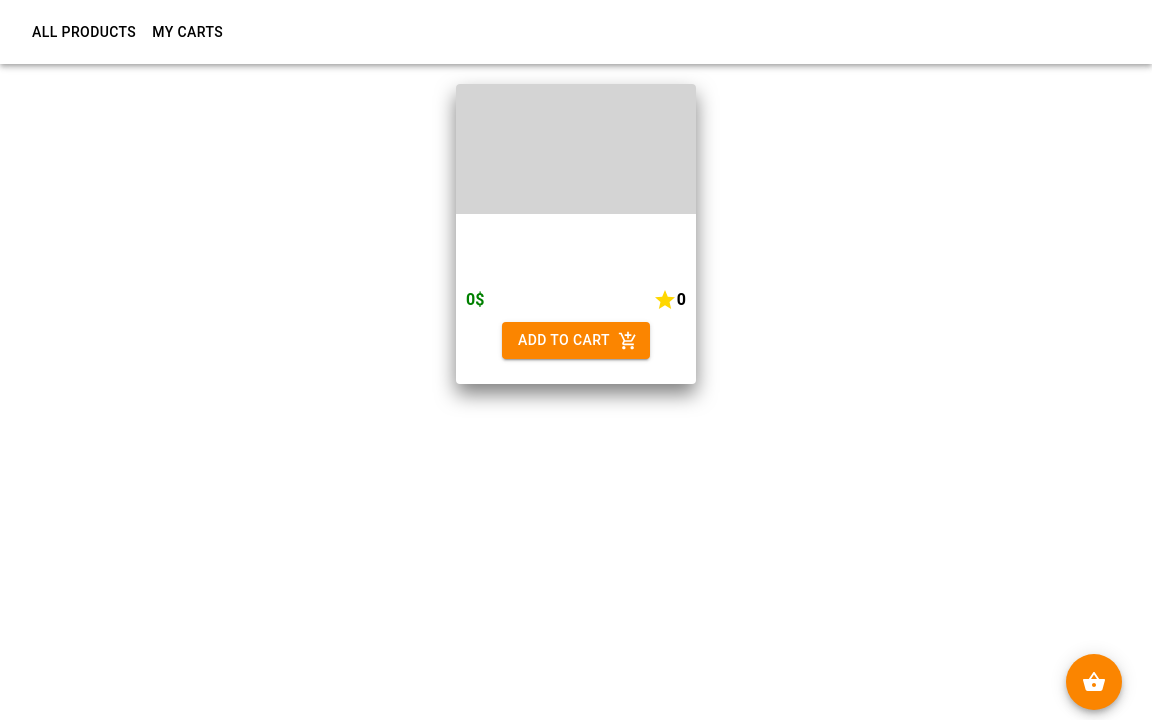
Scenario: `ALL PRODUCTS` PAGE TEST › Check if there is an item in the shopping cart
Step 1. Click the button with test id "addToCartButton" → (576, 341), box [502,322,650,359]
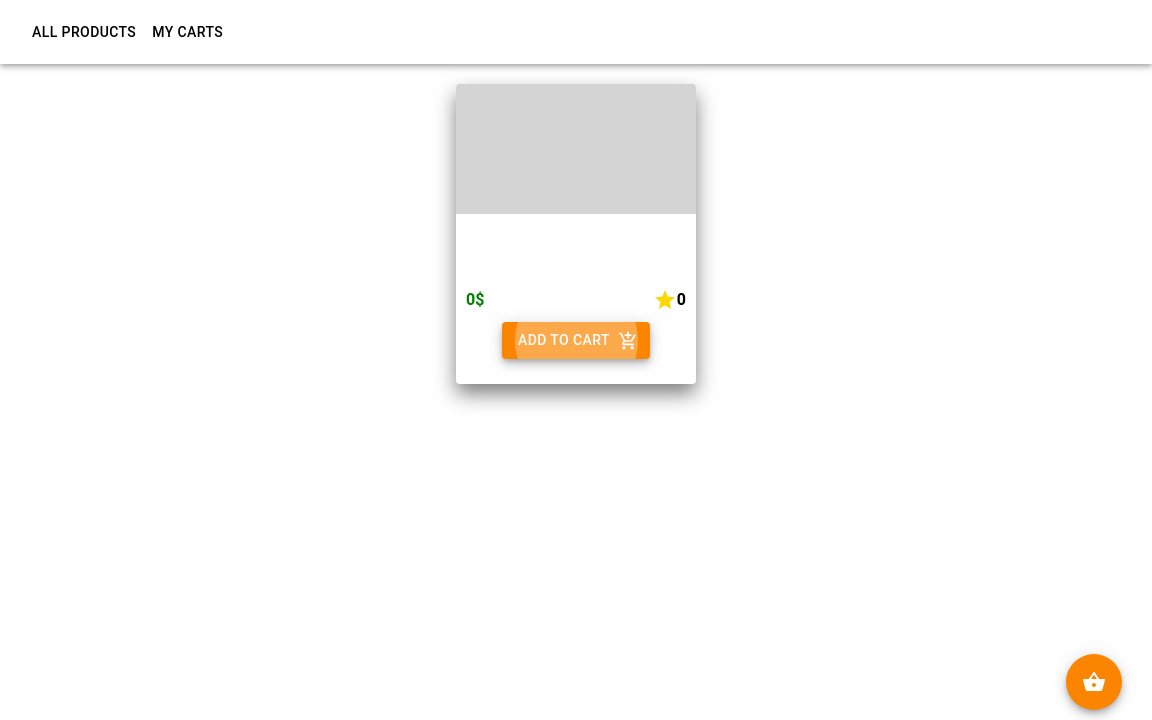
Step 2. Click the button named "SpeedDial openIcon example" → (1094, 682), box [1066,654,1122,710]
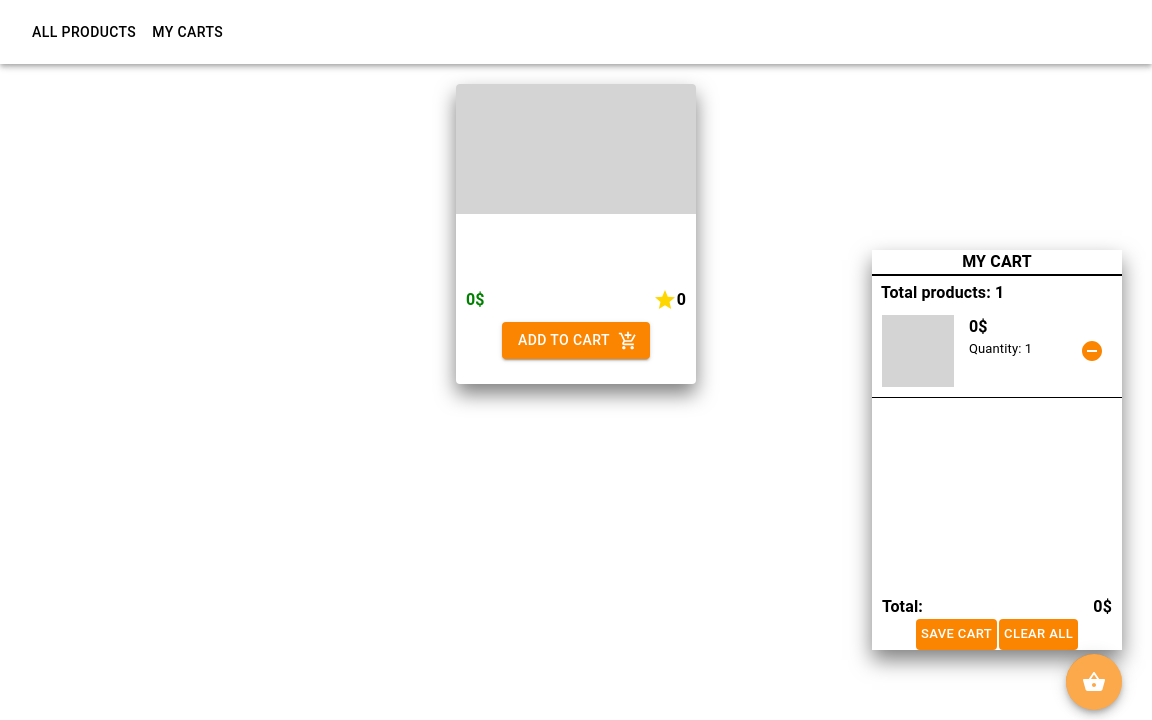
expect the element with test id "cartProduct" is shown: met, box [872,305,1122,398]
